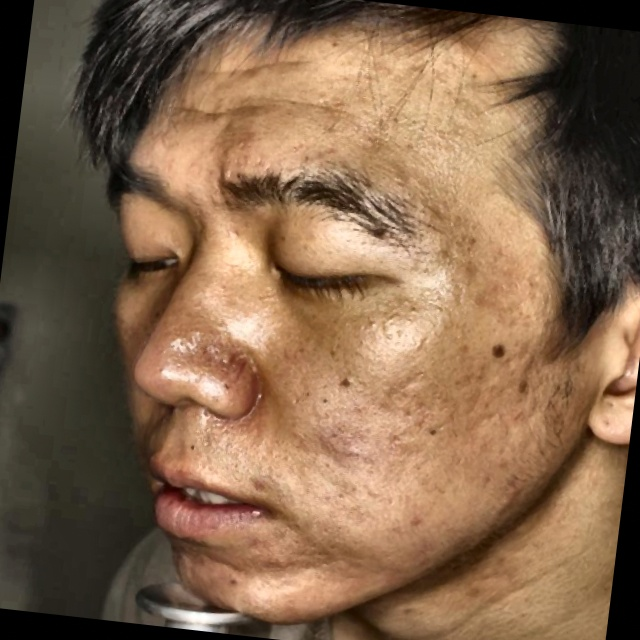comedone: (212, 343, 251, 370)
